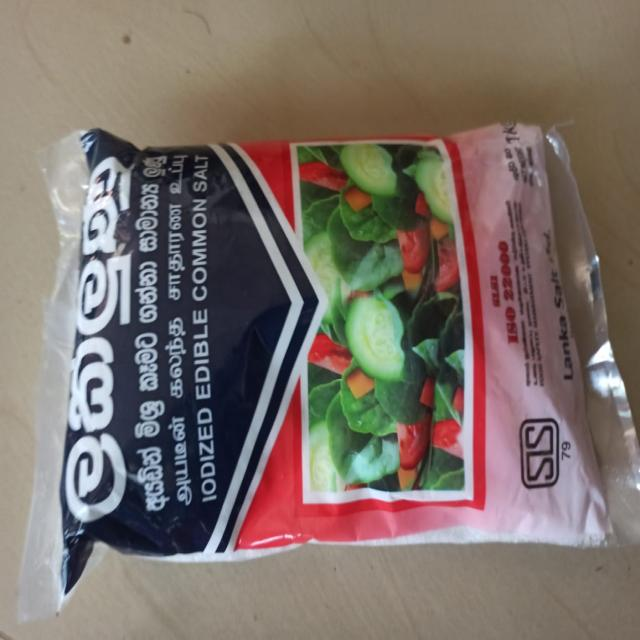Lak Lunu: (21, 110, 640, 590)
